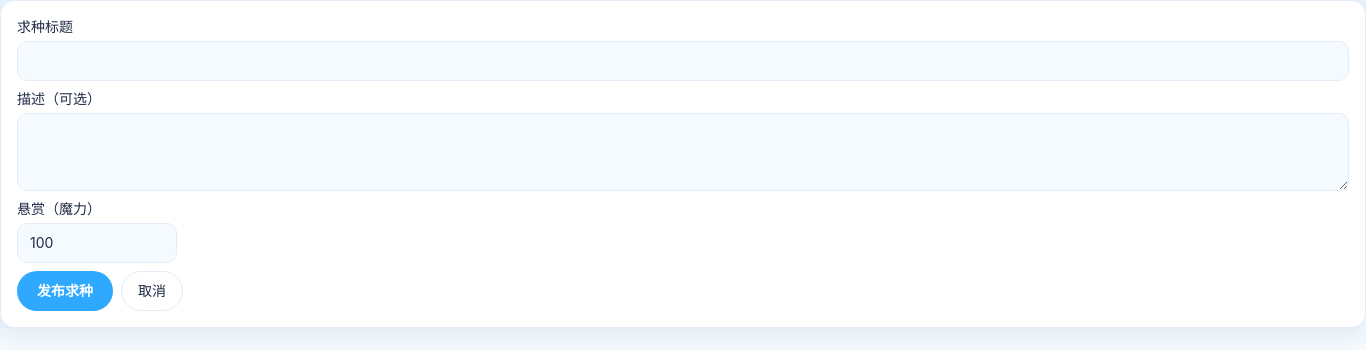
求种表单的货币名（渲染层） › 标签与回执都补上货币名，界面上不许残留 {magic}
This screenshot has width=1366, height=350.
Expected: the text "悬赏（魔力）" is shown, [17, 200, 177, 263]
Type "求一部老片" into the field labelled "求种标题".
click(683, 61); type("求一部老片")  # box [17, 41, 1349, 81]
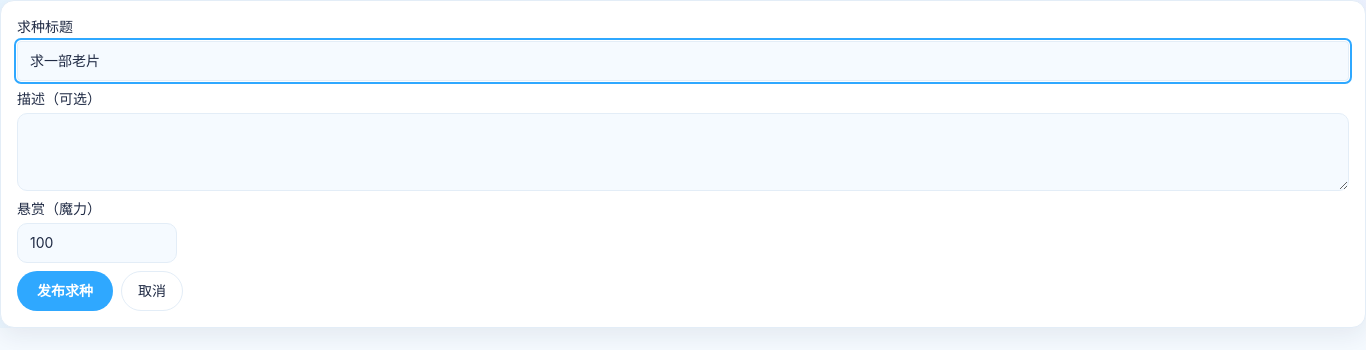
Click the button "发布求种".
click(65, 291)  # box [17, 271, 113, 311]
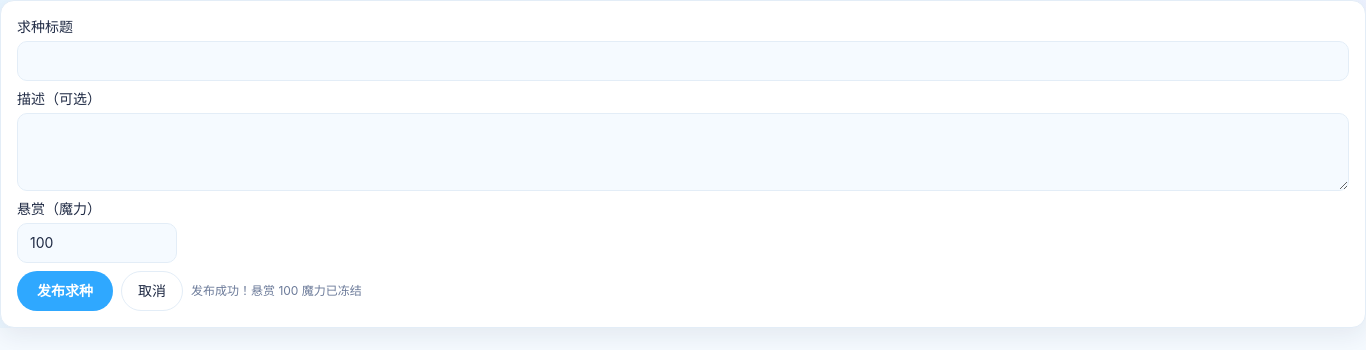
Result: the text "发布成功！悬赏 100 魔力已冻结" is shown at [191, 283, 362, 299]
